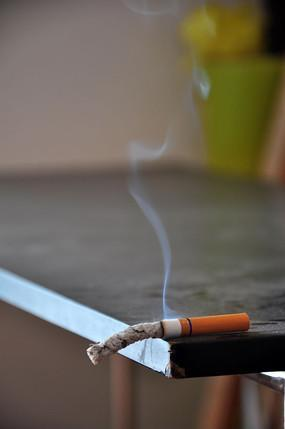smoke: (87, 312, 251, 364)
